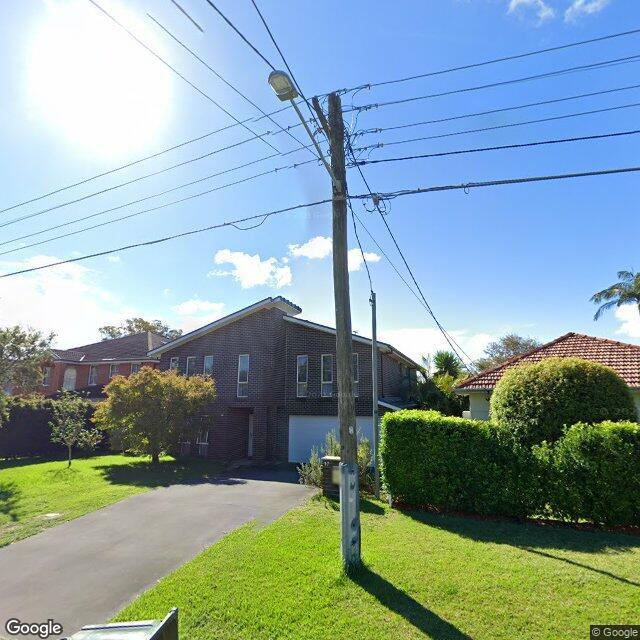crossarm: (312, 96, 331, 142)
steel-pole: (370, 293, 380, 500)
streetlight: (268, 69, 341, 193)
timber-pole: (327, 92, 361, 574)
